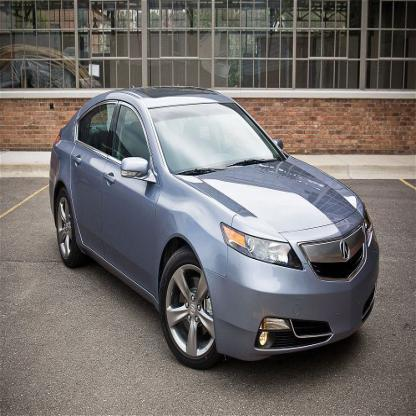Vehicle: (46, 82, 381, 377)
